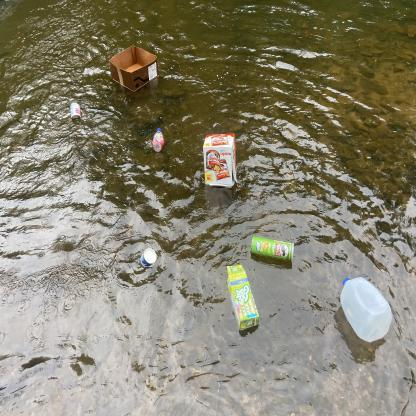trash: (335, 272, 394, 346), (104, 43, 166, 98), (200, 126, 244, 194), (225, 260, 262, 339), (249, 234, 298, 265), (136, 242, 160, 272), (147, 124, 168, 154), (68, 98, 83, 123)
